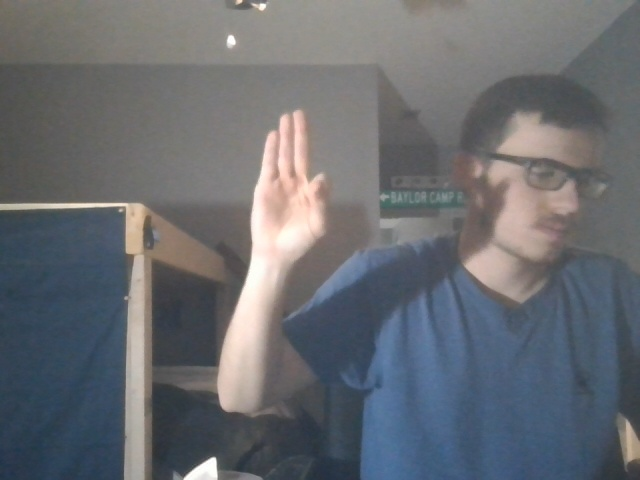F: (234, 104, 341, 266)
